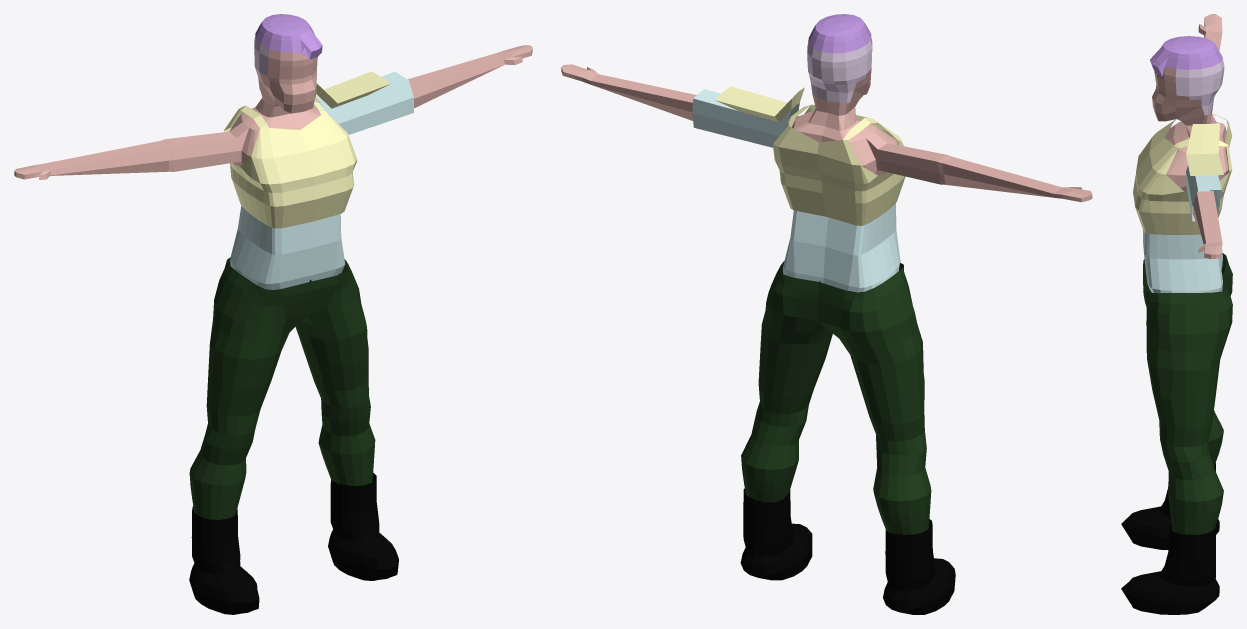
Rendered from Chief.fbx.
3 views of the same model, side by side, from view 1: azimuth 30°, elevation 25°; view 2: azimuth 150°, elevation 25°; view 3: azimuth 270°, elevation 25° (orthographic). The views are drawn at different scales.
Visible parts, largest first — view 1: Calca, Corpo, Peitoral, Sapatos, Torso, Bracadeira, Circle.006; view 2: Calca, Corpo, Sapatos, Peitoral, Torso, Bracadeira, Circle.006; view 3: Calca, Sapatos, Corpo, Peitoral, Torso, Bracadeira, Circle.006.
Part boxes in pixels (x1,y1,x2,y2): Calca: (189,257,375,519); Corpo: (14,36,532,179); Peitoral: (223,100,357,228); Sapatos: (189,473,398,614); Torso: (230,206,345,289); Bracadeira: (313,71,413,134); Circle.006: (255,14,322,59); Calca: (741,261,931,534); Corpo: (561,36,1092,202); Sapatos: (740,488,955,614); Peitoral: (773,104,905,225); Torso: (782,203,900,292); Bracadeira: (692,86,804,147); Circle.006: (808,14,871,53); Calca: (1143,253,1232,534); Sapatos: (1121,463,1219,614); Corpo: (1152,14,1228,258); Peitoral: (1133,114,1232,234); Torso: (1143,230,1222,293); Bracadeira: (1186,123,1223,221); Circle.006: (1150,36,1222,76).
Bounding box in the file's own units: 286 × 293 × 56.04.
